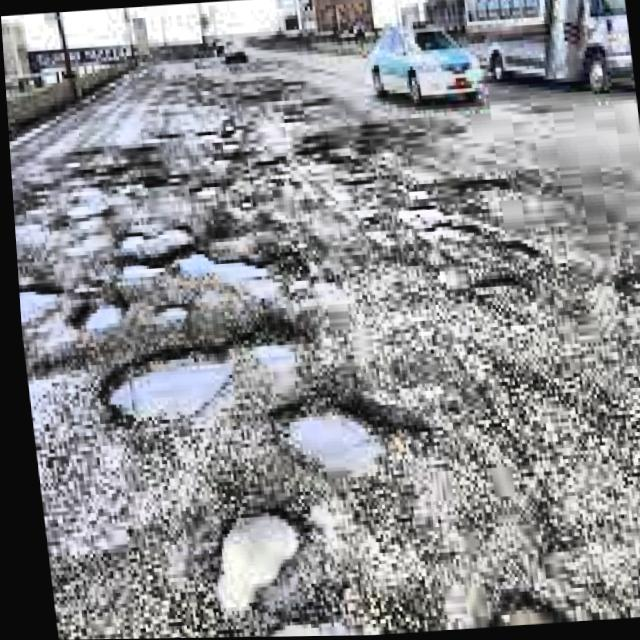pothole: (267, 395, 421, 470), (207, 513, 288, 612), (103, 355, 226, 418), (65, 265, 166, 329), (171, 255, 271, 296), (15, 285, 58, 317), (155, 304, 180, 320)
